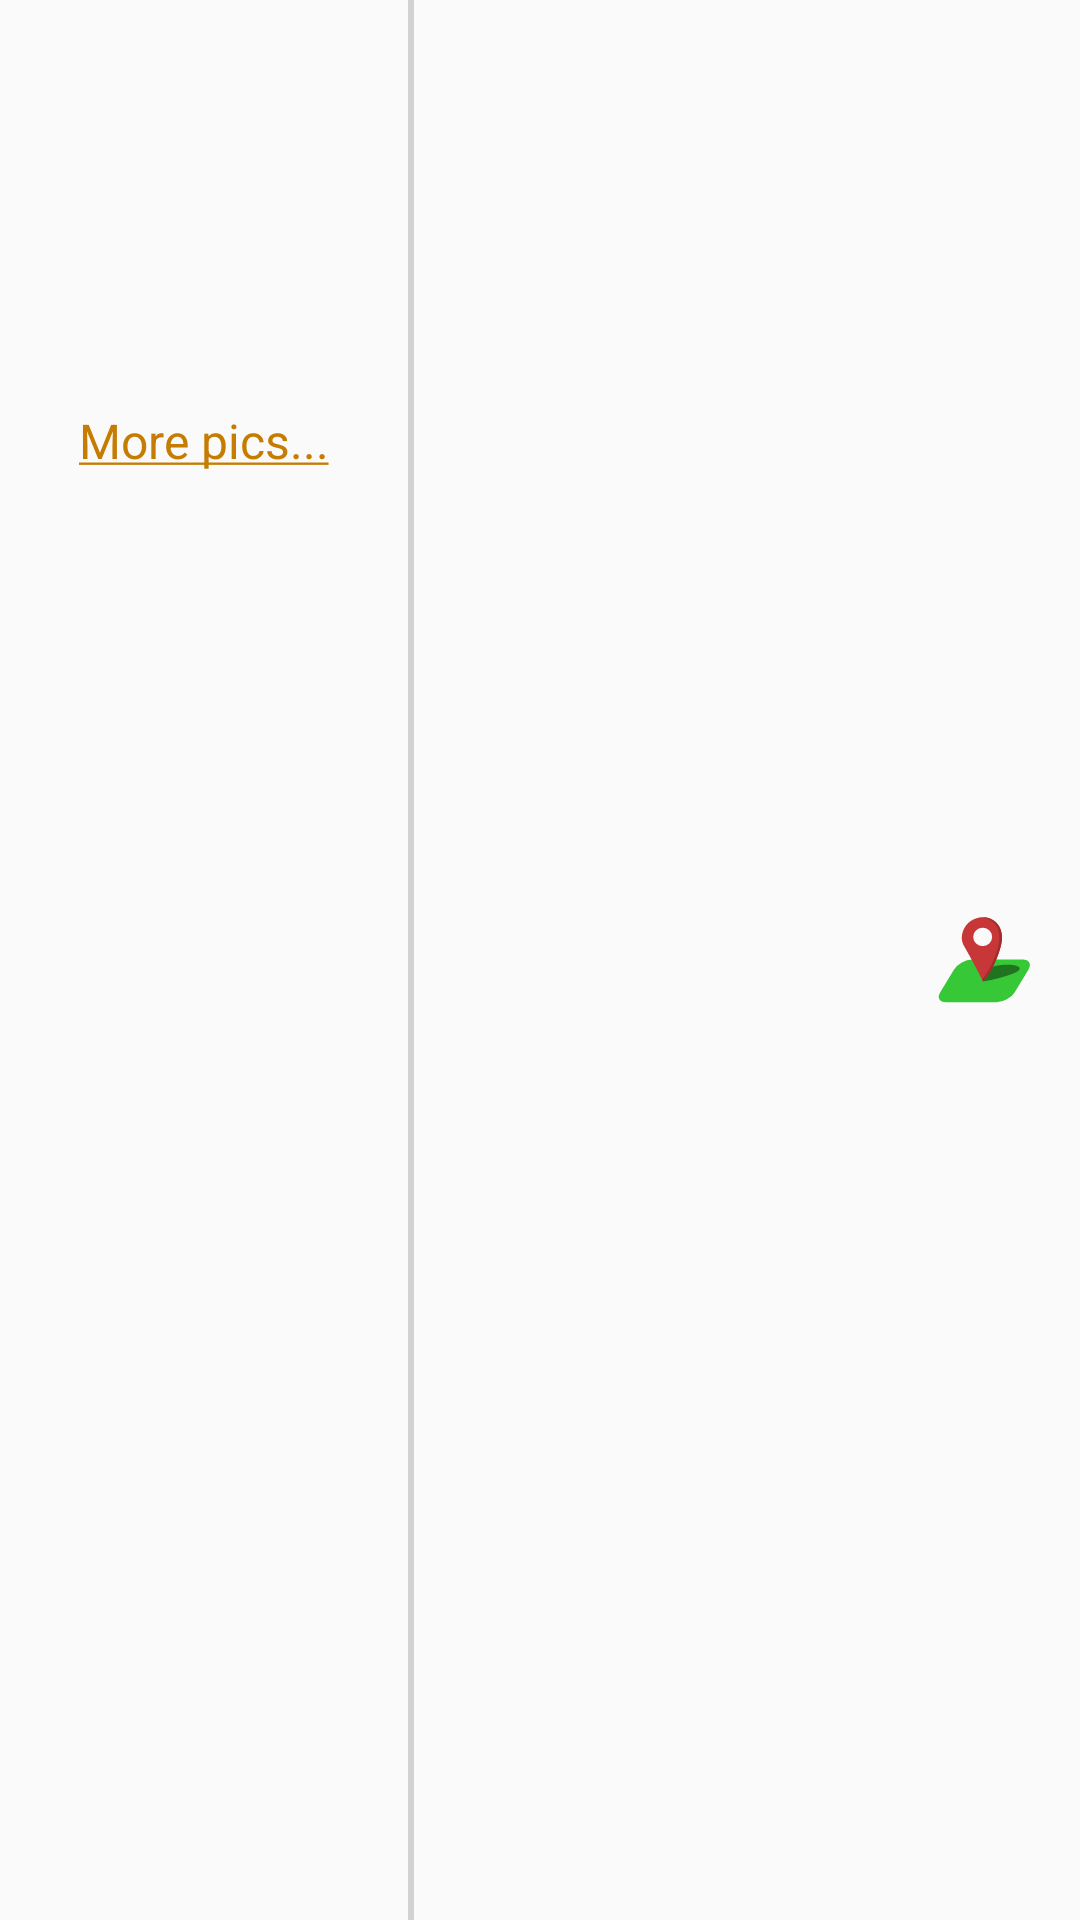

Named icons in this screenshot (1080px×1920px) and their centers, point (x, y):
location: point (984, 960)
